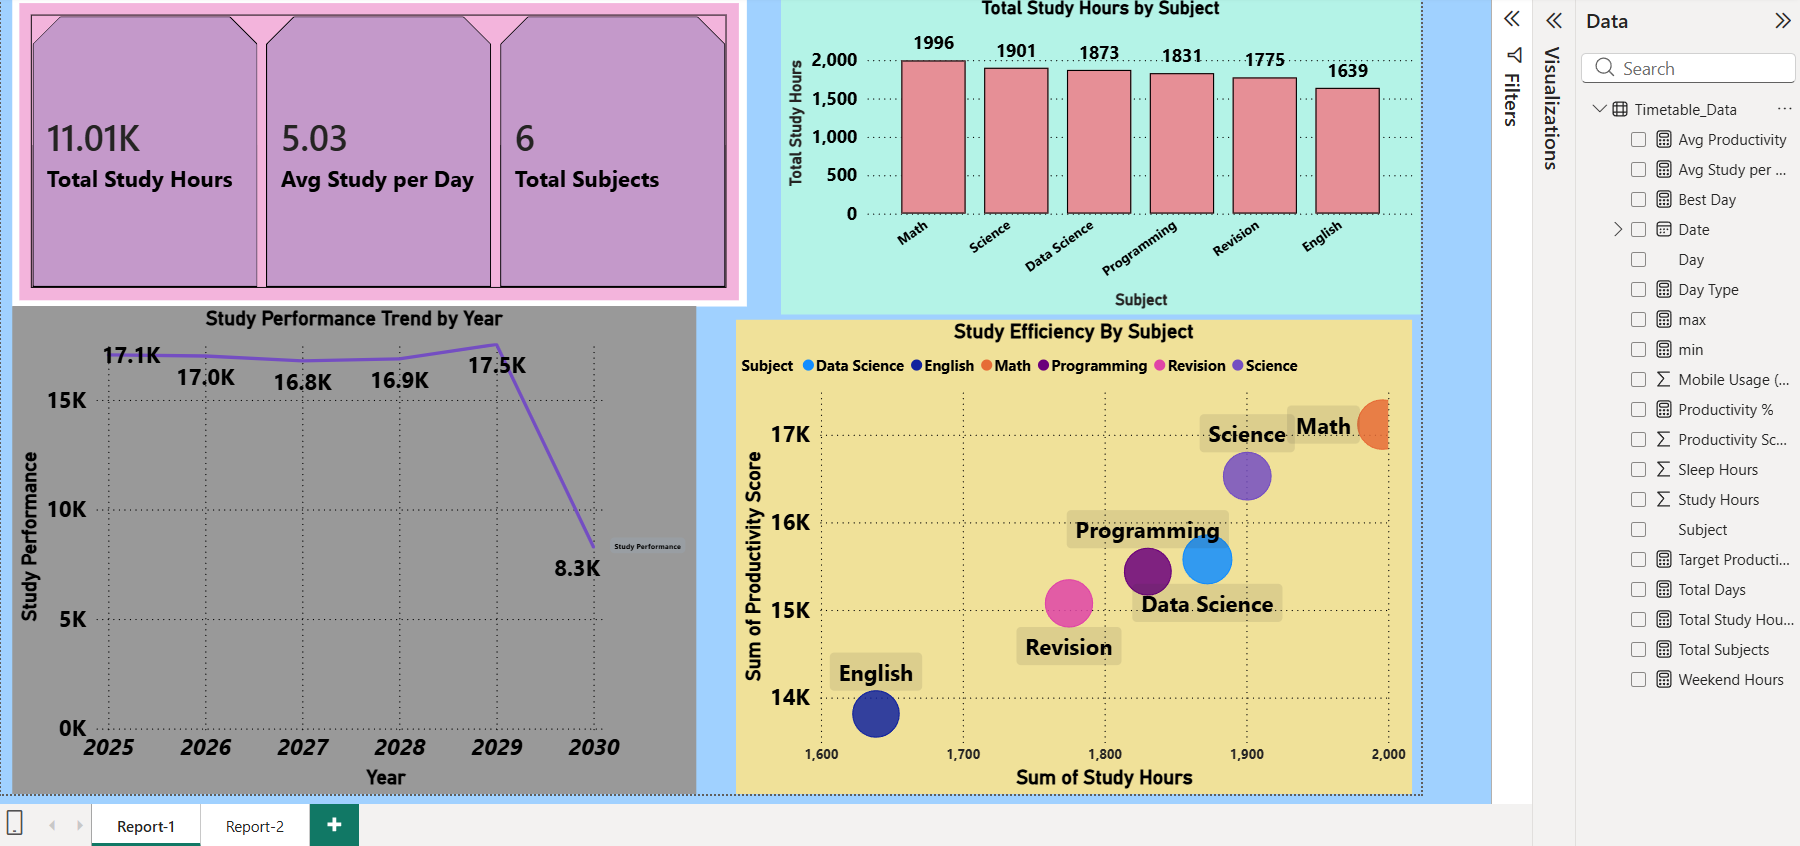

What the dashboard file says about the page in this screenshot:
{"tool":"powerbi","page":{"name":"Report-1","canvas":[1280,720],"ordinal":0},"visuals":[{"type":"cardVisual","fields":{"Data":["Timetable_Data.Total Study Hours","Timetable_Data.Avg Study per Day","Timetable_Data.Total Subjects"]},"box":[10.5,0,662.8,280.2],"z":0},{"type":"lineChart","title":"Study Performance Trend by Year ","fields":{"Category":["Timetable_Data.Date.Variation.Date Hierarchy.Year","Timetable_Data.Date.Variation.Date Hierarchy.Quarter","Timetable_Data.Date.Variation.Date Hierarchy.Month","Timetable_Data.Date.Variation.Date Hierarchy.Day"],"Y":["Sum(Timetable_Data.Productivity Score)"]},"box":[10,280,616.7,440],"z":1000},{"type":"clusteredColumnChart","fields":{"Category":["Timetable_Data.Subject"],"Y":["Timetable_Data.Total Study Hours"]},"box":[703.5,0,576.7,287.2],"z":2000},{"type":"scatterChart","title":"Study Efficiency By Subject","fields":{"Series":["Timetable_Data.Subject"],"Y":["Sum(Timetable_Data.Productivity Score)"],"X":["Sum(Timetable_Data.Study Hours)"],"Size":["CountNonNull(Timetable_Data.Subject)"]},"box":[662.8,291.9,609.3,427.9],"z":3000}]}

Visuals, with their boxes on the page's 1280x720 design canvas (x1, y1, x2, y2). These are canvas units, not pixel positions in the 1800x846 screenshot, which may show the page scaled, cropped or inside an application window:
cardVisual - Timetable_Data.Total Study Hours x Timetable_Data.Avg Study per Day: [x1=10, y1=0, x2=673, y2=280]
"Study Performance Trend by Year " lineChart: [x1=10, y1=280, x2=627, y2=720]
clusteredColumnChart - Timetable_Data.Subject x Timetable_Data.Total Study Hours: [x1=704, y1=0, x2=1280, y2=287]
"Study Efficiency By Subject" scatterChart: [x1=663, y1=292, x2=1272, y2=720]
